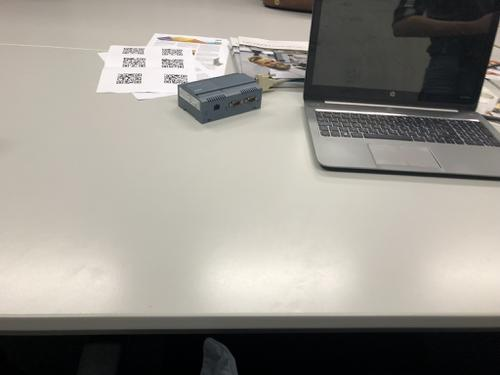device: (178, 73, 263, 125)
